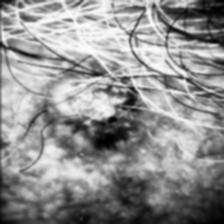Potentially Malignant Skin Tumors: (46, 56, 160, 154)
